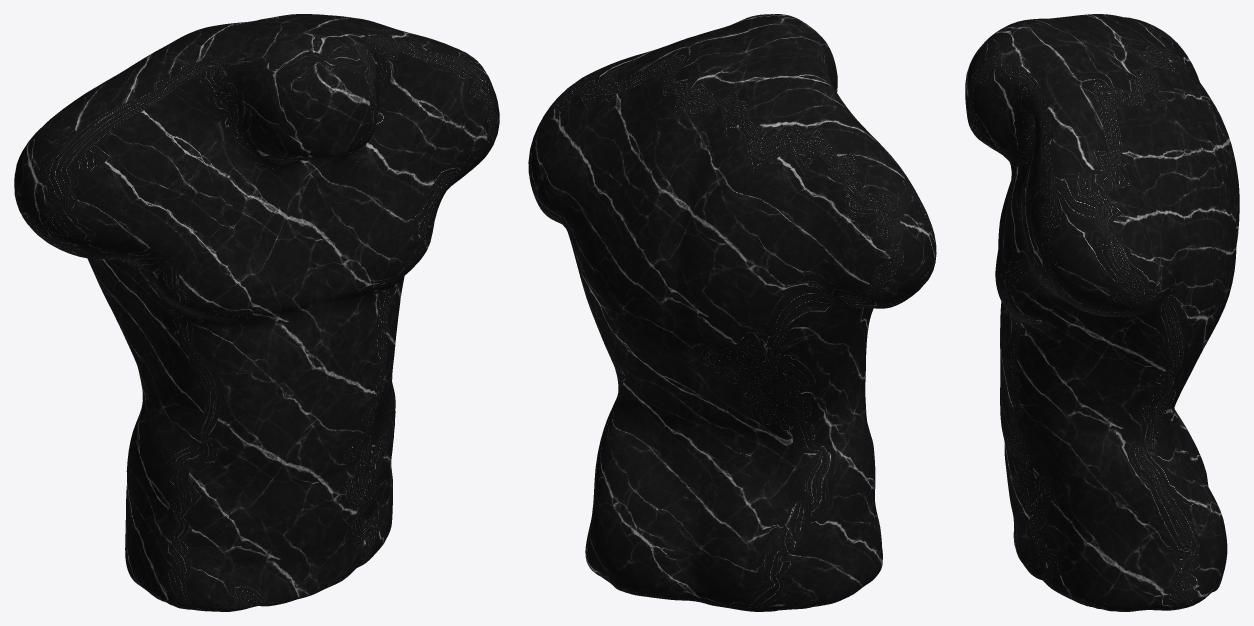
Rendered from torso2.glb.
3 views of the same model, side by side, from view 1: azimuth 30°, elevation 25°; view 2: azimuth 150°, elevation 25°; view 3: azimuth 270°, elevation 25° (orthographic). The views are drawn at different scales.
Parts seen in each view (by area): view 1: Object.001_Remesh; view 2: Object.001_Remesh; view 3: Object.001_Remesh.
Boxes of the visible parts, left/top/right/bottom form: Object.001_Remesh: left=14, top=14, right=499, bottom=611; Object.001_Remesh: left=528, top=14, right=936, bottom=611; Object.001_Remesh: left=965, top=14, right=1239, bottom=611.
Size of the model in its own units: 3.53 by 4.25 by 2.
Materials: 1 (1 with a texture image).
